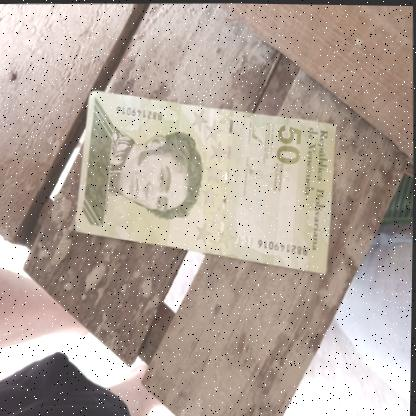fifty-front-vef: (72, 84, 340, 276)
